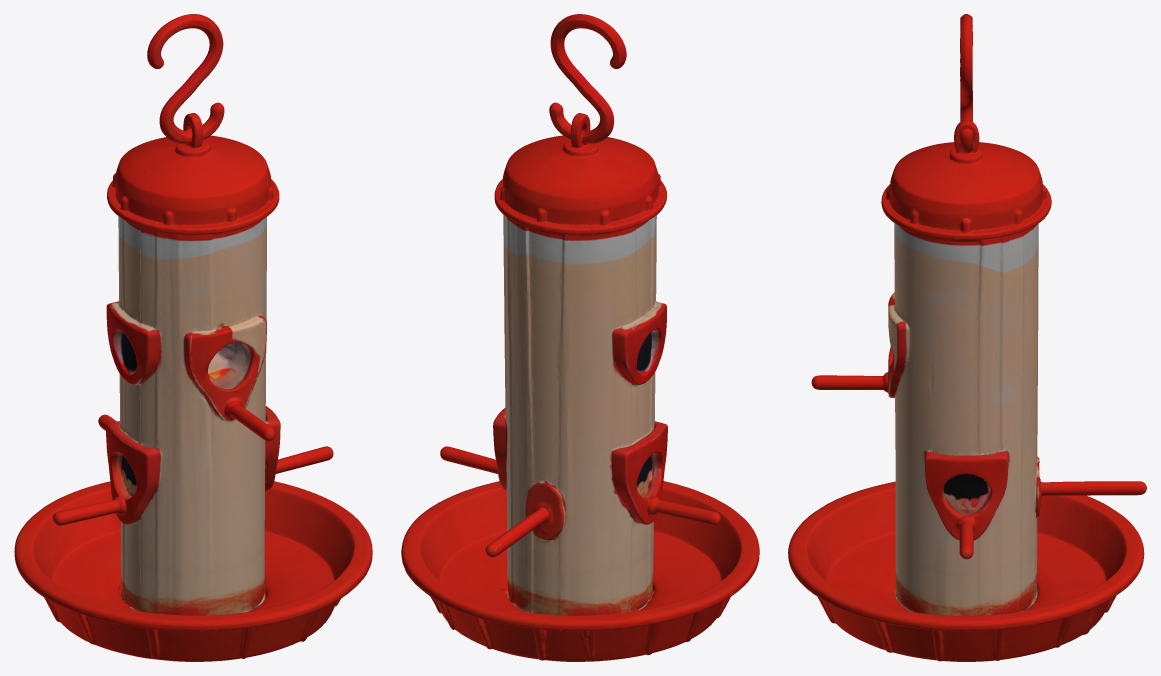
The model's file is red seed feeder 3d model.glb.
3 views of the same model, side by side, from view 1: azimuth 30°, elevation 25°; view 2: azimuth 150°, elevation 25°; view 3: azimuth 270°, elevation 25° (orthographic).
Visible parts, largest first — view 1: tripo_node_b9bae892-efbe-4a34-9e65-a536f675213f; view 2: tripo_node_b9bae892-efbe-4a34-9e65-a536f675213f; view 3: tripo_node_b9bae892-efbe-4a34-9e65-a536f675213f.
Part boxes in pixels (x1,y1,x2,y2): tripo_node_b9bae892-efbe-4a34-9e65-a536f675213f: (14,14,372,661); tripo_node_b9bae892-efbe-4a34-9e65-a536f675213f: (401,14,759,661); tripo_node_b9bae892-efbe-4a34-9e65-a536f675213f: (788,14,1146,661).
Bounding box in the file's own units: 0.5421 × 1 × 0.5493.
Materials: 1 (1 with a texture image).
